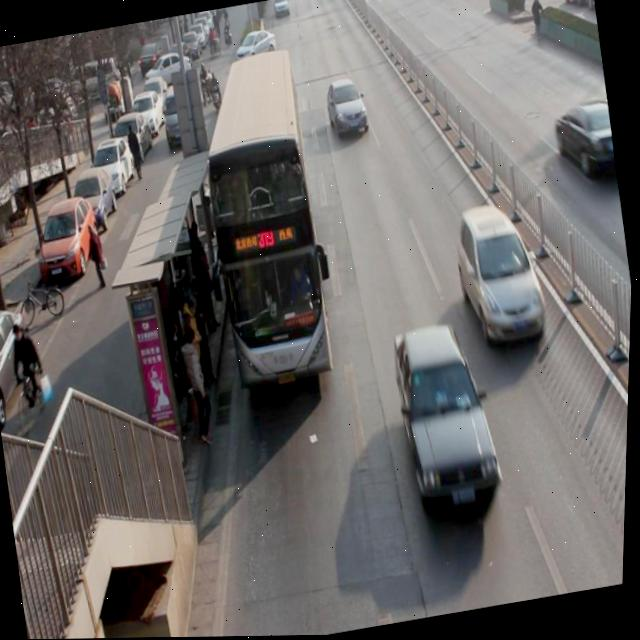car: (390, 323, 512, 514), (452, 205, 558, 355), (552, 101, 620, 190), (324, 77, 377, 147), (244, 30, 279, 66)
van: (188, 48, 343, 383)
